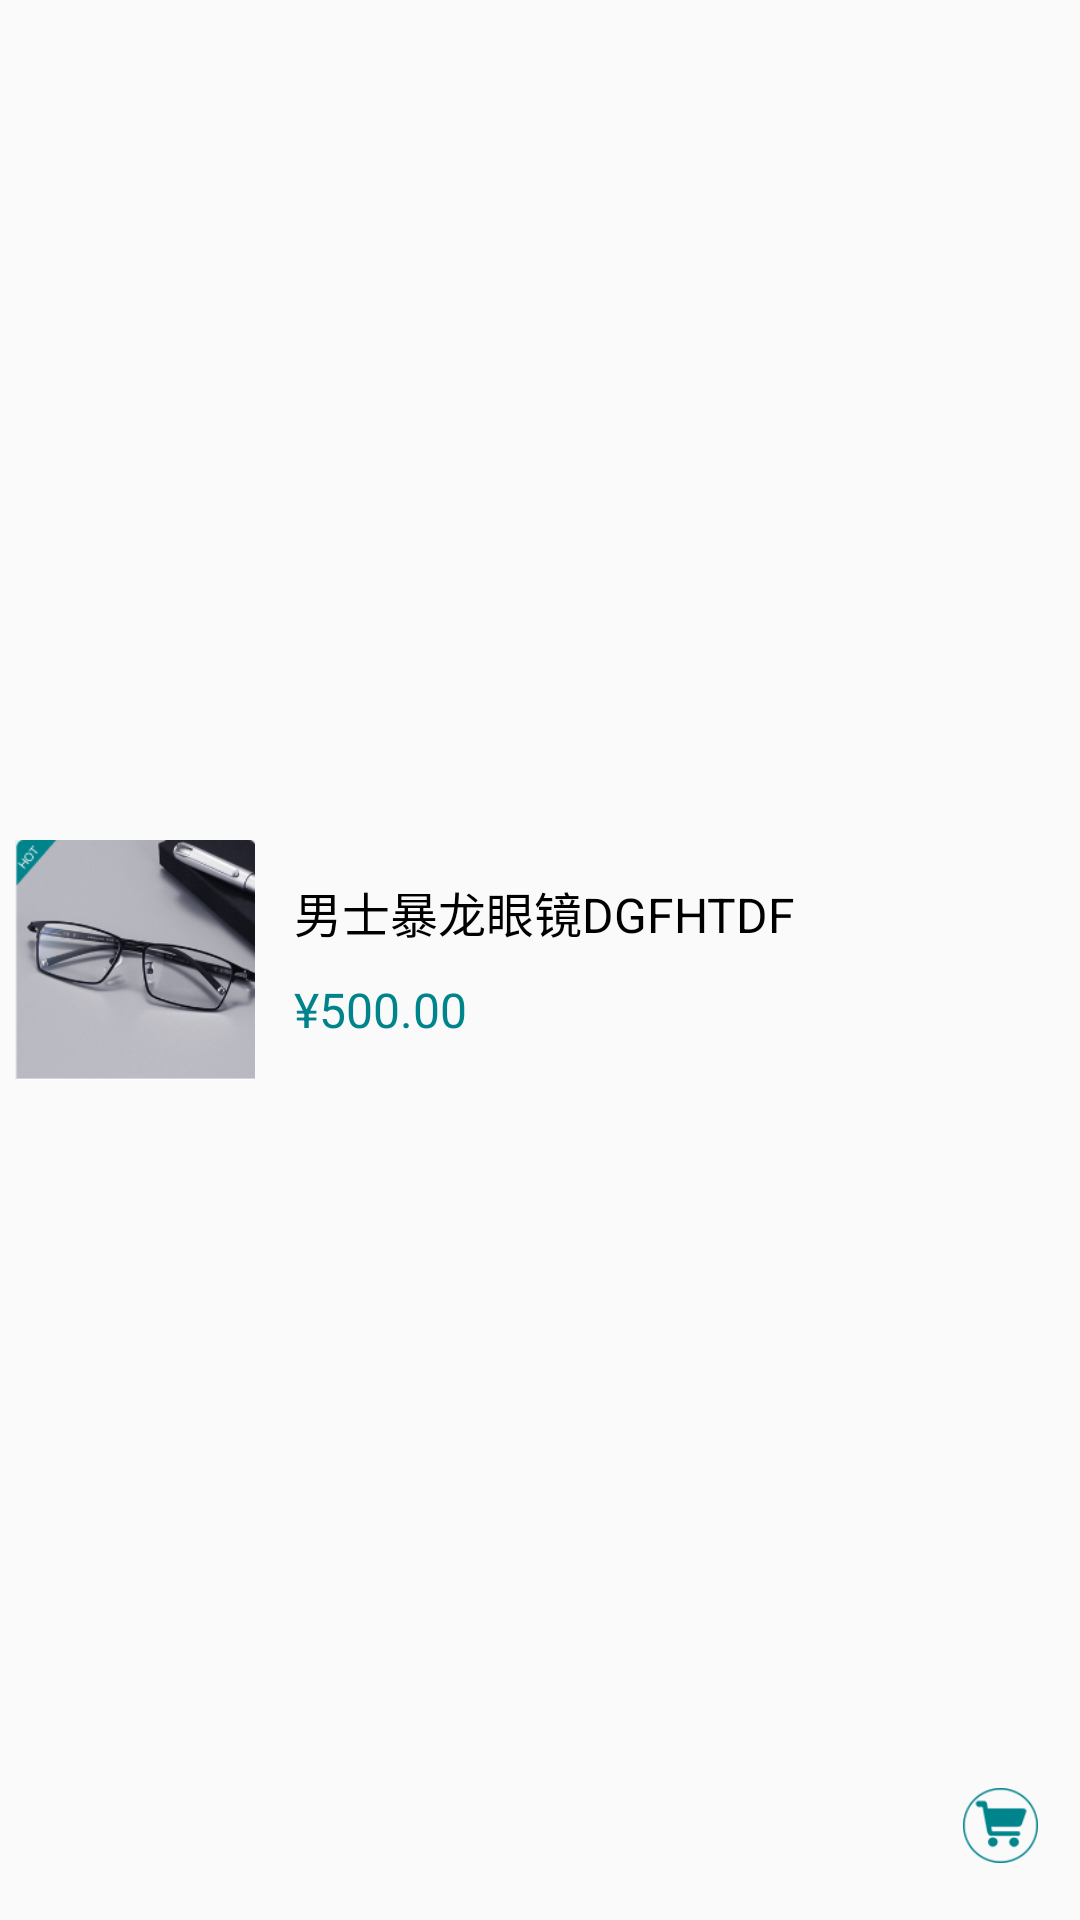

Locate icon controls on the screen. Image size 1080×1920, boxes as region(x1, y1, x2, y2).
jiaru: region(963, 1788, 1038, 1863)
